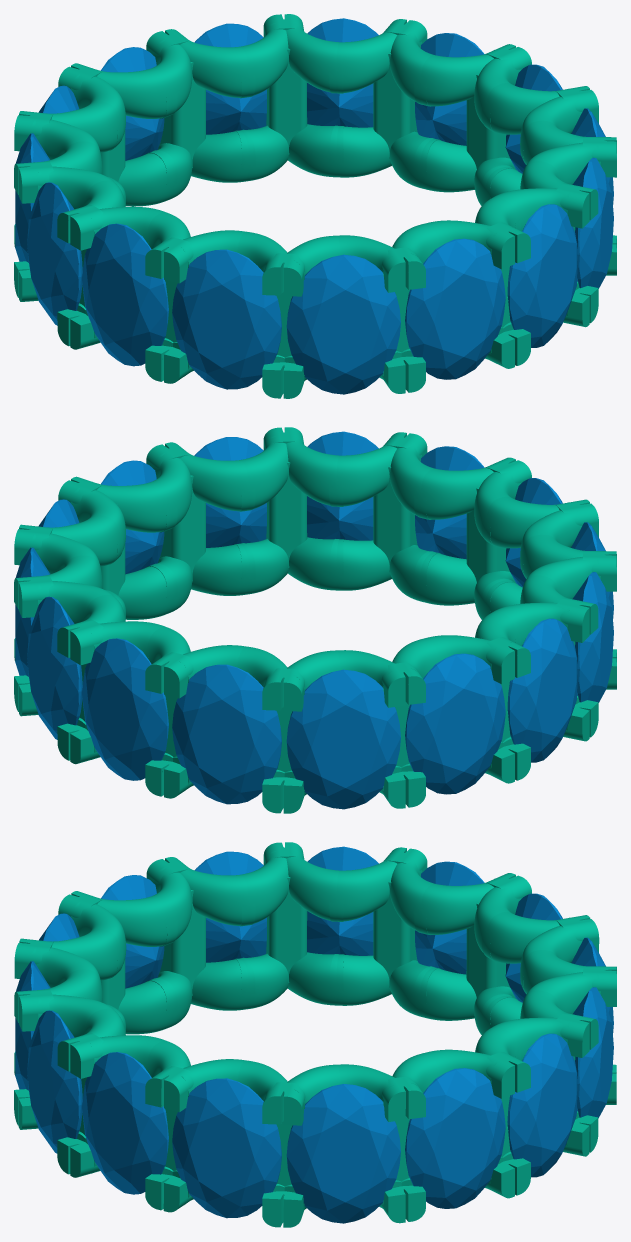
3 renders of one model, top to bottom at view 1: azimuth 30°, elevation 25°; view 2: azimuth 150°, elevation 25°; view 3: azimuth 270°, elevation 25°, orthographic.
Parts seen in each view (by area): view 1: 6-4.50MM(base).3dm, Diamond_Oval (×15); view 2: 6-4.50MM(base).3dm, Diamond_Oval (×15); view 3: 6-4.50MM(base).3dm, Diamond_Oval (×15).
Boxes of the visible parts, box(x1,y1,x2,y2) form: 6-4.50MM(base).3dm: box(14, 14, 616, 398); Diamond_Oval (×15): box(15, 18, 613, 394); 6-4.50MM(base).3dm: box(14, 427, 616, 813); Diamond_Oval (×15): box(15, 431, 613, 809); 6-4.50MM(base).3dm: box(14, 842, 616, 1227); Diamond_Oval (×15): box(15, 846, 613, 1223).
Size of the model in its own units: 2.79 by 0.709 by 2.78.
